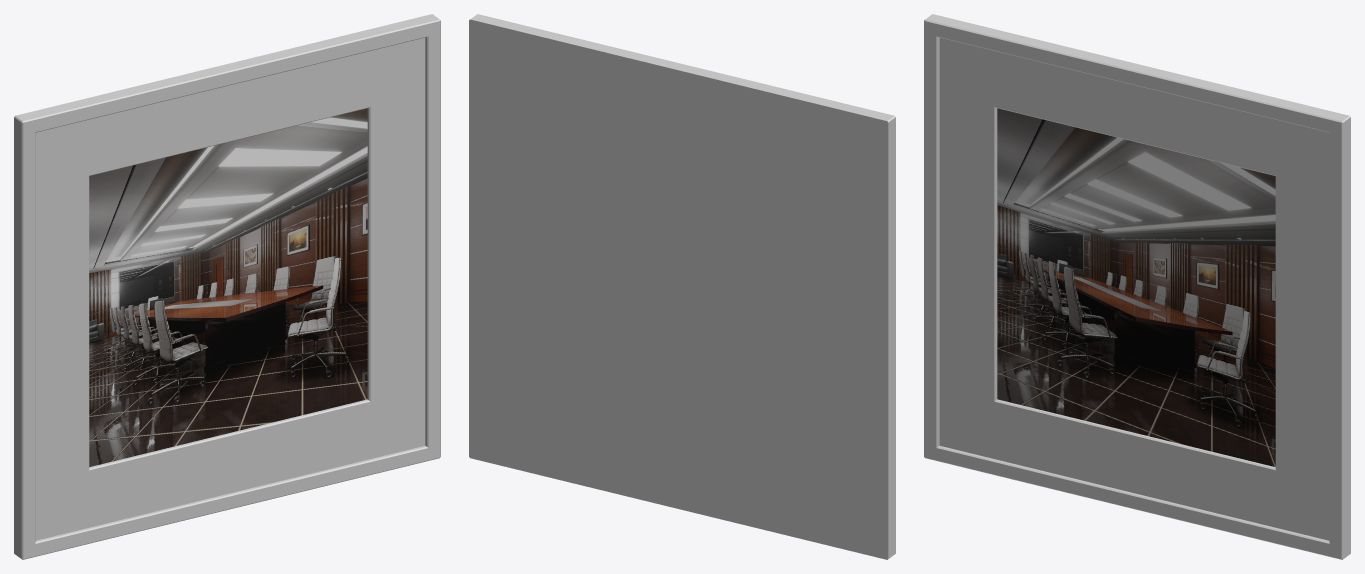
File: picture_flowers.gltf
The picture shows the model from 3 angles, left to right: view 1: azimuth 30°, elevation 25°; view 2: azimuth 150°, elevation 25°; view 3: azimuth 330°, elevation 25°; orthographic projection.
Visible parts, largest first — view 1: SM_Picture; view 2: SM_Picture; view 3: SM_Picture.
Part boxes in pixels (bbox=[...]): SM_Picture: bbox=[14, 14, 440, 559]; SM_Picture: bbox=[469, 14, 895, 559]; SM_Picture: bbox=[924, 14, 1350, 559].
Size of the model in its own units: 0.5998 by 0.5998 by 0.02.
2 materials, 1 textured.
